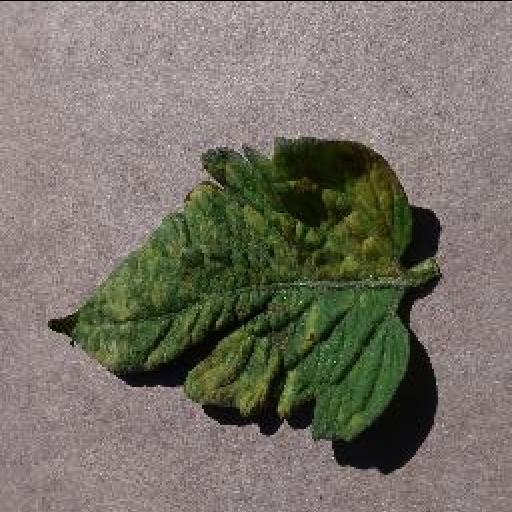disease_tomato: (44, 136, 414, 436)
